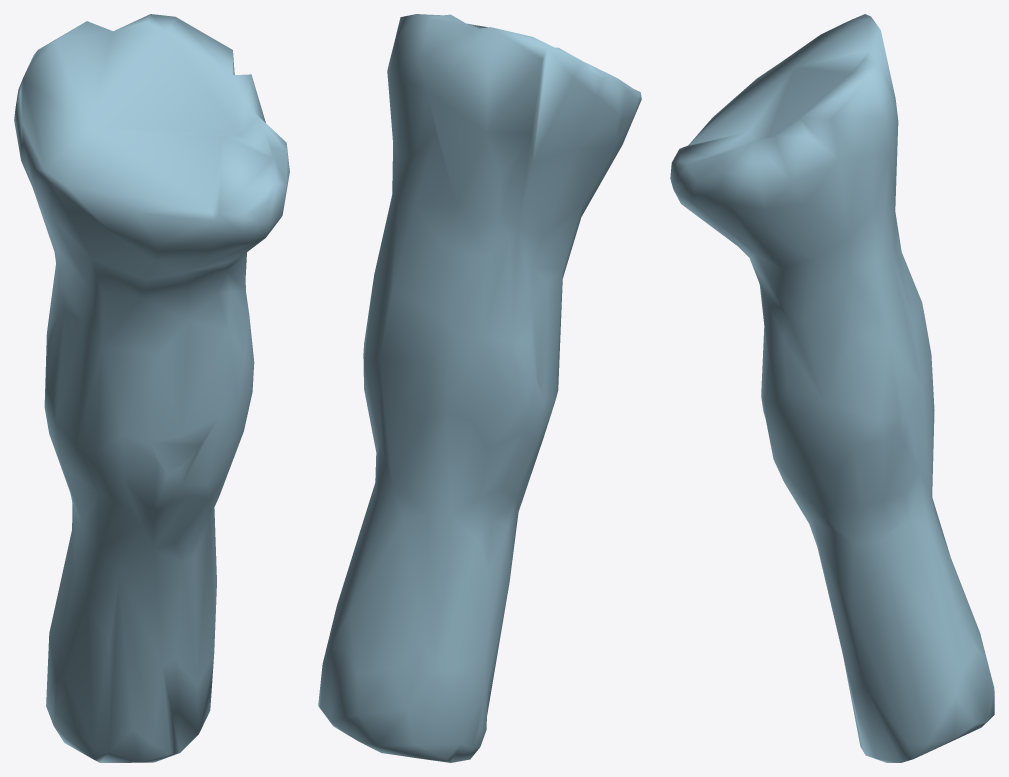
The model's file is articulacoes-lateral-thyrohyoid-ligament-r.glb.
3 renders of one model, left to right at view 1: azimuth 30°, elevation 25°; view 2: azimuth 150°, elevation 25°; view 3: azimuth 270°, elevation 25°, orthographic. The views are drawn at different scales.
Parts seen in each view (by area): view 1: Lateral thyrohyoid ligament.r; view 2: Lateral thyrohyoid ligament.r; view 3: Lateral thyrohyoid ligament.r.
Boxes of the visible parts, x1,y1,x2,y2 form: Lateral thyrohyoid ligament.r: [14, 14, 289, 762]; Lateral thyrohyoid ligament.r: [318, 14, 641, 762]; Lateral thyrohyoid ligament.r: [670, 14, 994, 762].
Bounding box in the file's own units: 0.00362 × 0.0106 × 0.00451.
